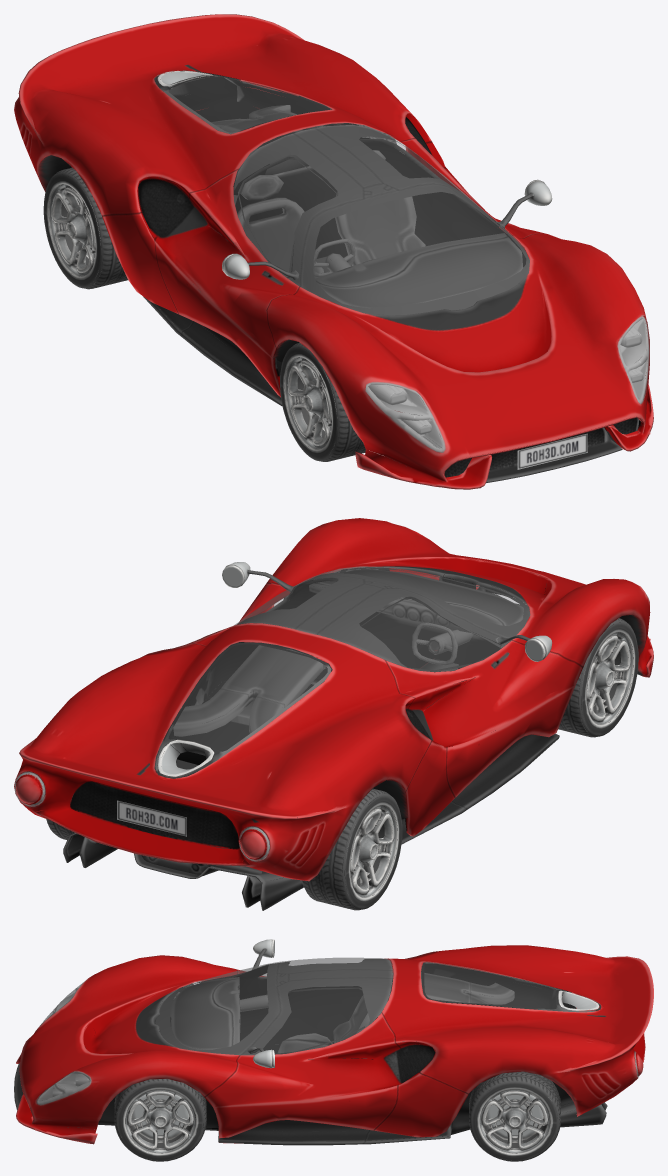
The model's file is detomaso_p72.glb.
The picture shows the model from 3 angles, top to bottom: view 1: azimuth 30°, elevation 25°; view 2: azimuth 150°, elevation 25°; view 3: azimuth 270°, elevation 25°; orthographic projection. The views are drawn at different scales.
Visible parts, largest first — view 1: Object_4, Object_2, Object_3; view 2: Object_4, Object_2, Object_3; view 3: Object_4, Object_2, Object_3.
Part boxes in pixels (left/top/right/bottom): Object_4: left=14, top=14, right=652, bottom=489; Object_2: left=38, top=70, right=649, bottom=482; Object_3: left=44, top=71, right=653, bottom=489; Object_4: left=14, top=518, right=653, bottom=910; Object_2: left=14, top=566, right=649, bottom=910; Object_3: left=14, top=558, right=653, bottom=910; Object_4: left=14, top=939, right=653, bottom=1161; Object_2: left=19, top=957, right=638, bottom=1149; Object_3: left=14, top=939, right=645, bottom=1161.
Size of the model in its own units: 2076 by 1109 by 4739.
1 material, 1 textured.
